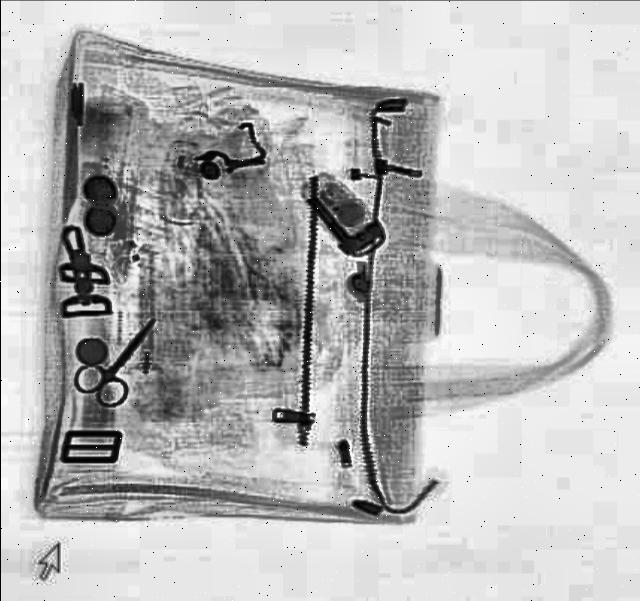Scissors: (68, 304, 178, 410)
